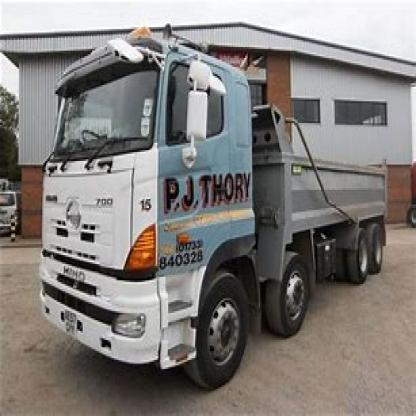dump_truck: (35, 18, 392, 393)
